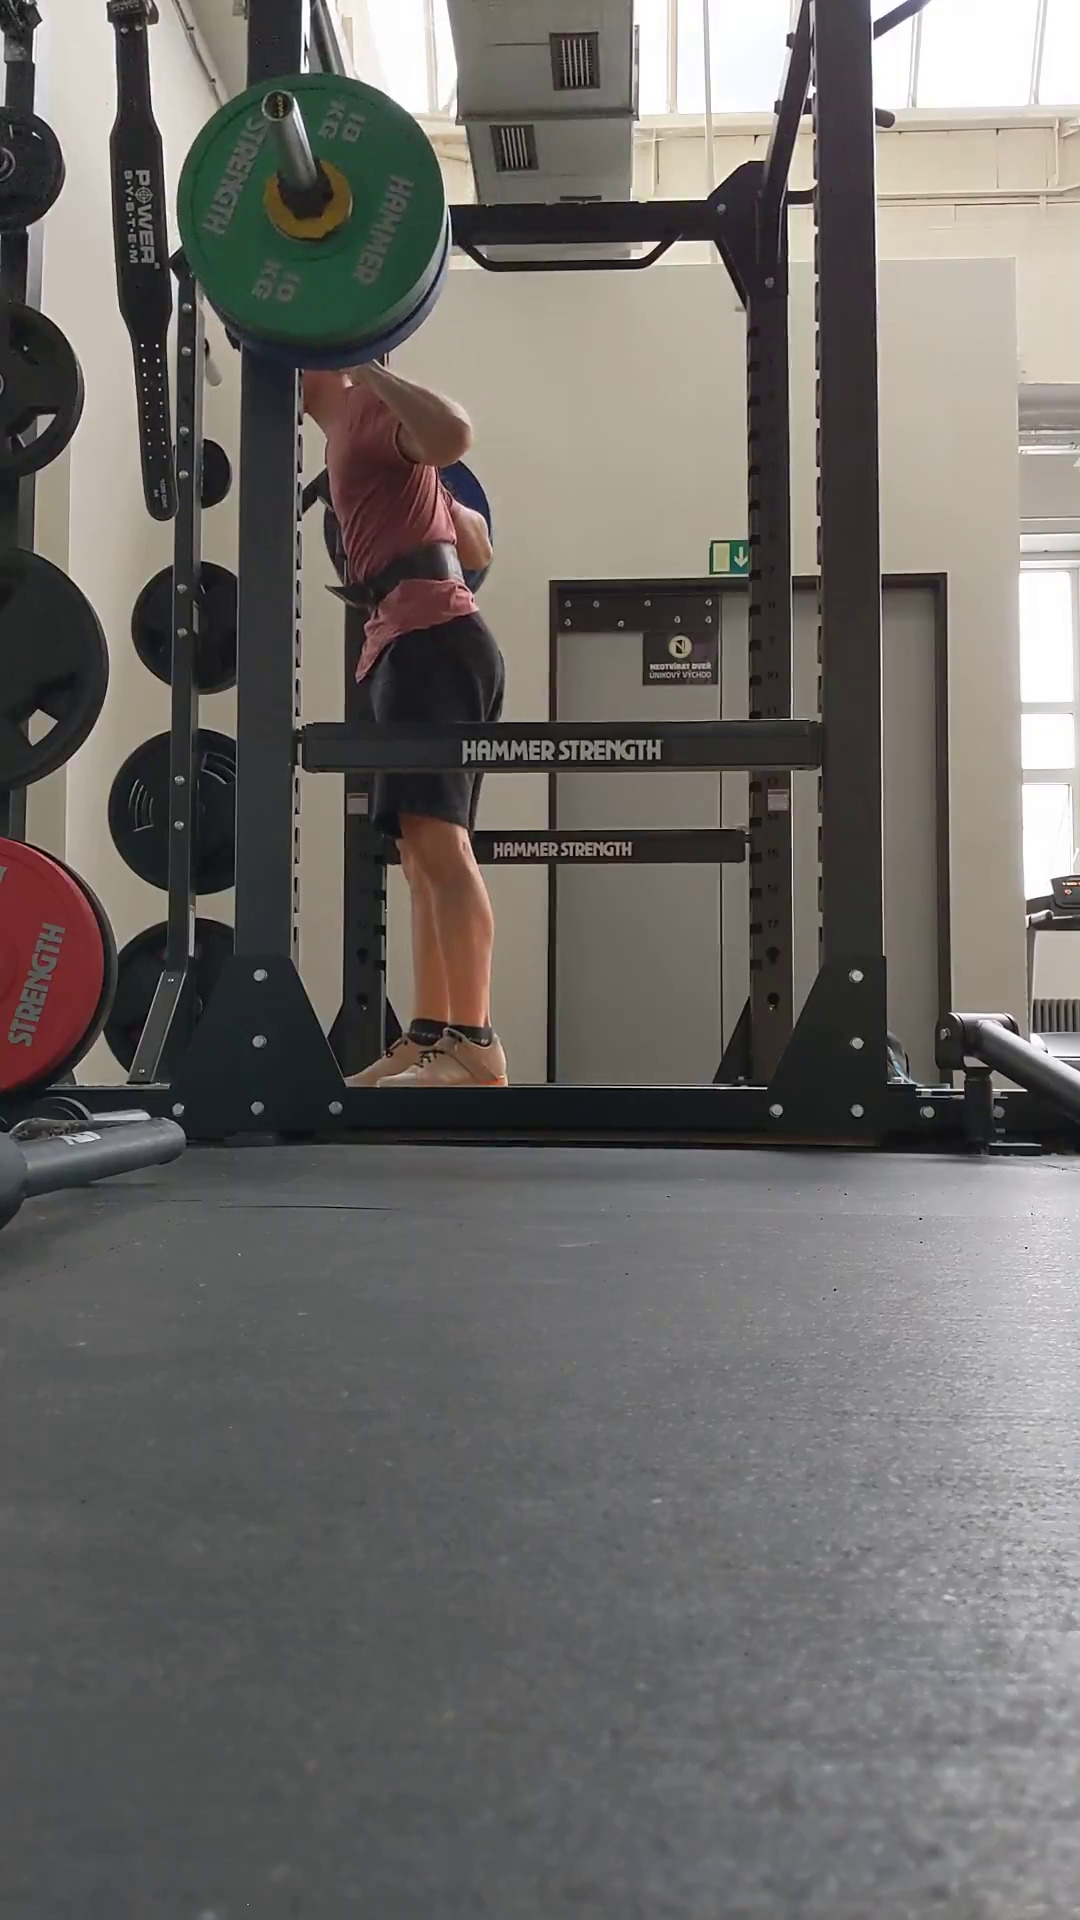barbell: (175, 73, 442, 338)
